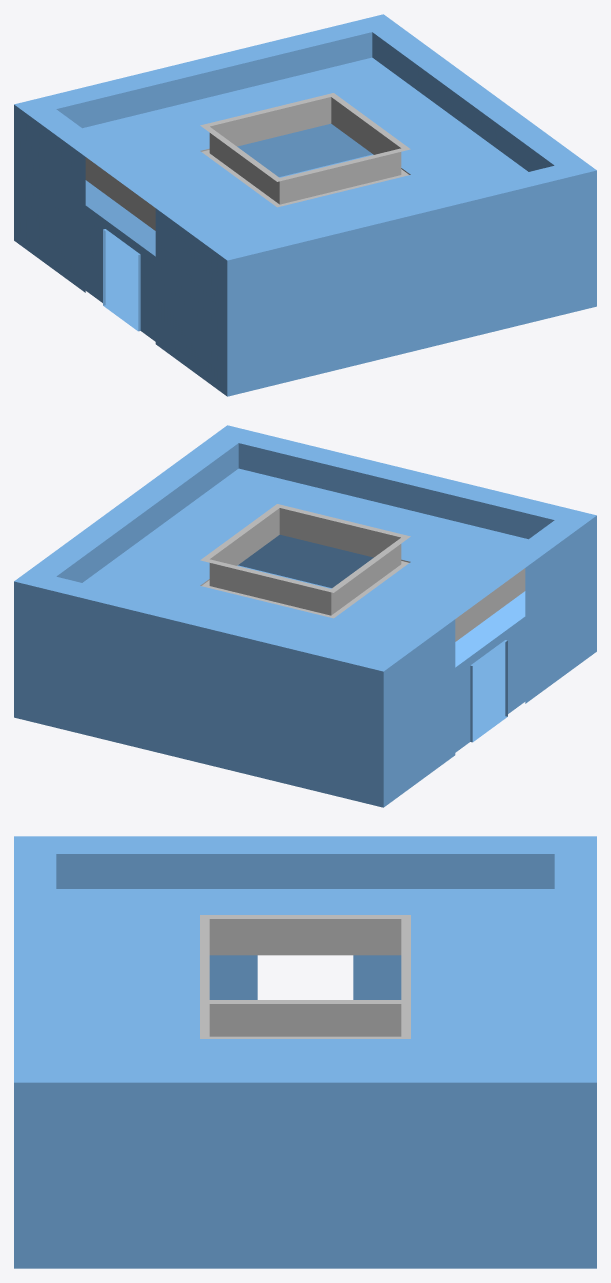
The model's file is Thresher-ST-Anchor-Room.obj.
3 renders of one model, top to bottom at view 1: azimuth 30°, elevation 25°; view 2: azimuth 150°, elevation 25°; view 3: azimuth 270°, elevation 25°, orthographic. The views are drawn at different scales.
Parts seen in each view (by area): view 1: Thresher-ST-Anchor-Room; view 2: Thresher-ST-Anchor-Room; view 3: Thresher-ST-Anchor-Room.
Boxes of the visible parts, x1,y1,x2,y2 form: Thresher-ST-Anchor-Room: (14,14,596,396); Thresher-ST-Anchor-Room: (14,425,596,807); Thresher-ST-Anchor-Room: (14,836,596,1268).
Size of the model in its own units: 15.2 by 6.35 by 15.2.
